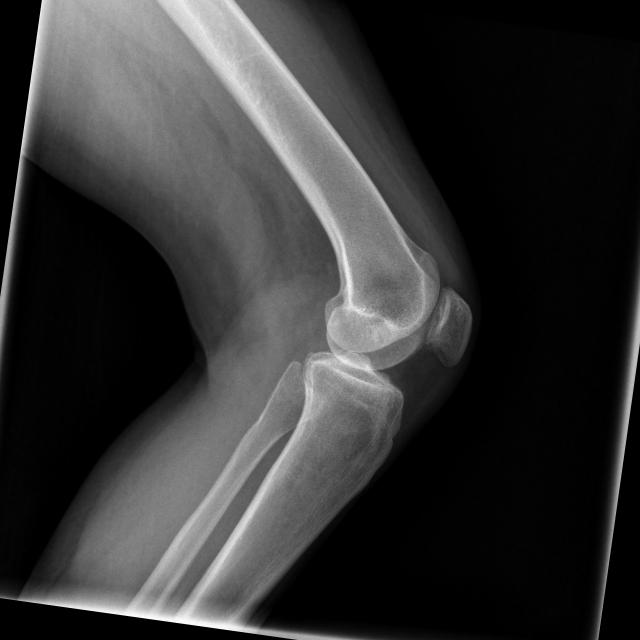Knee: (290, 254, 478, 446)
